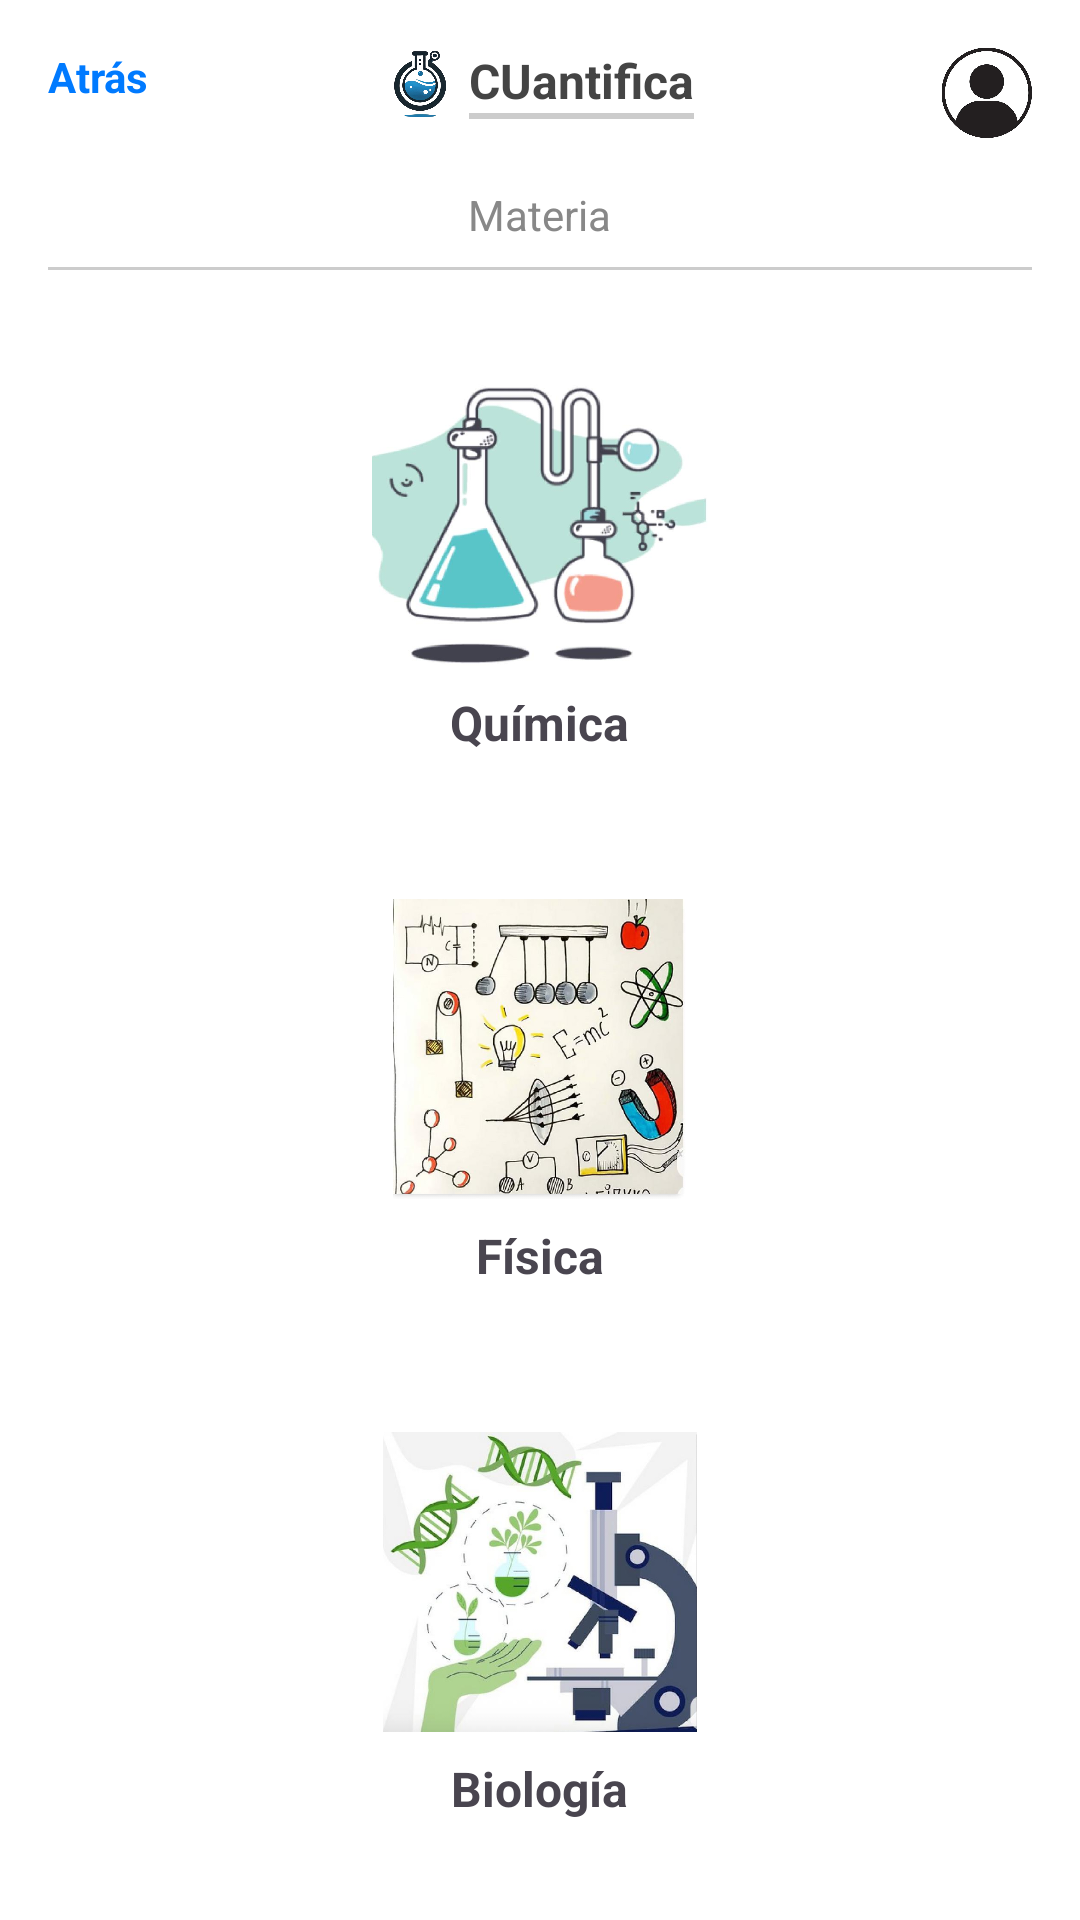

Where to tap for icons on this 1080w x 1920h app screen, as (x=x, y=y):
usuario: (x=987, y=93)
